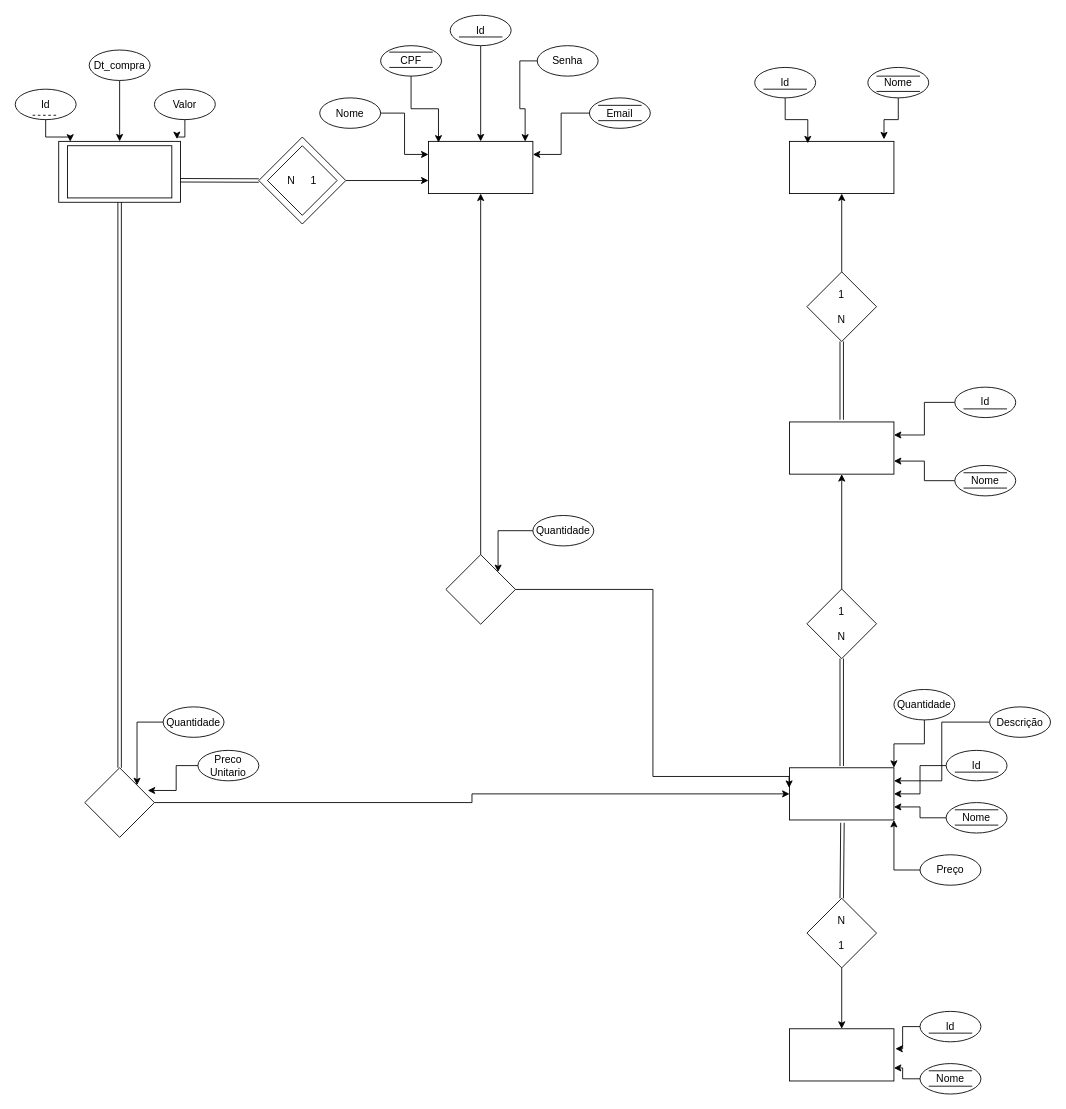
This 1066x1109 diagram has some shape labels left out. Each missing label, with the centre of its shape:
Categoria: point (841, 167)
Cliente: point (480, 167)
Compras: point (119, 171)
Fabricante: point (841, 1054)
N Carrinho N: point (480, 589)
N Itens Compra N: point (119, 802)
Produtos: point (841, 793)
Subcategoria: point (841, 447)
